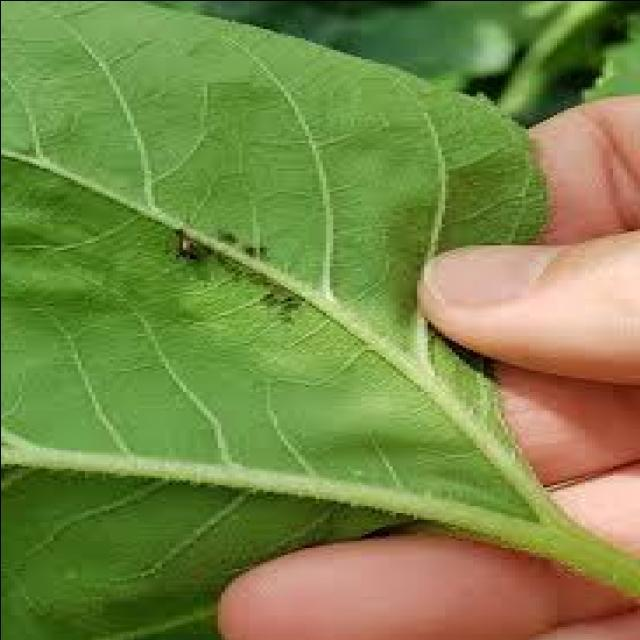aphid: (214, 220, 248, 244), (256, 286, 284, 304), (280, 289, 304, 307), (242, 238, 266, 255), (258, 240, 276, 258)
